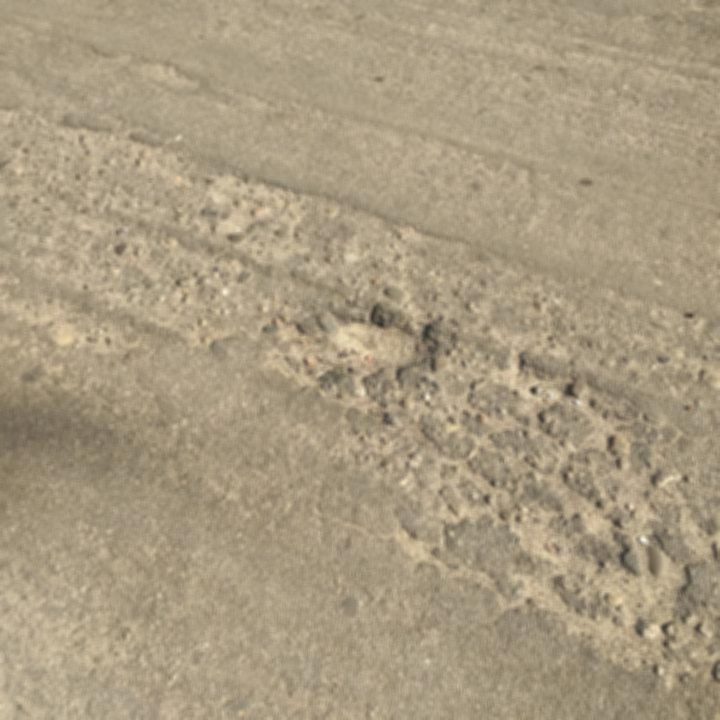pothole: (323, 311, 437, 367)
